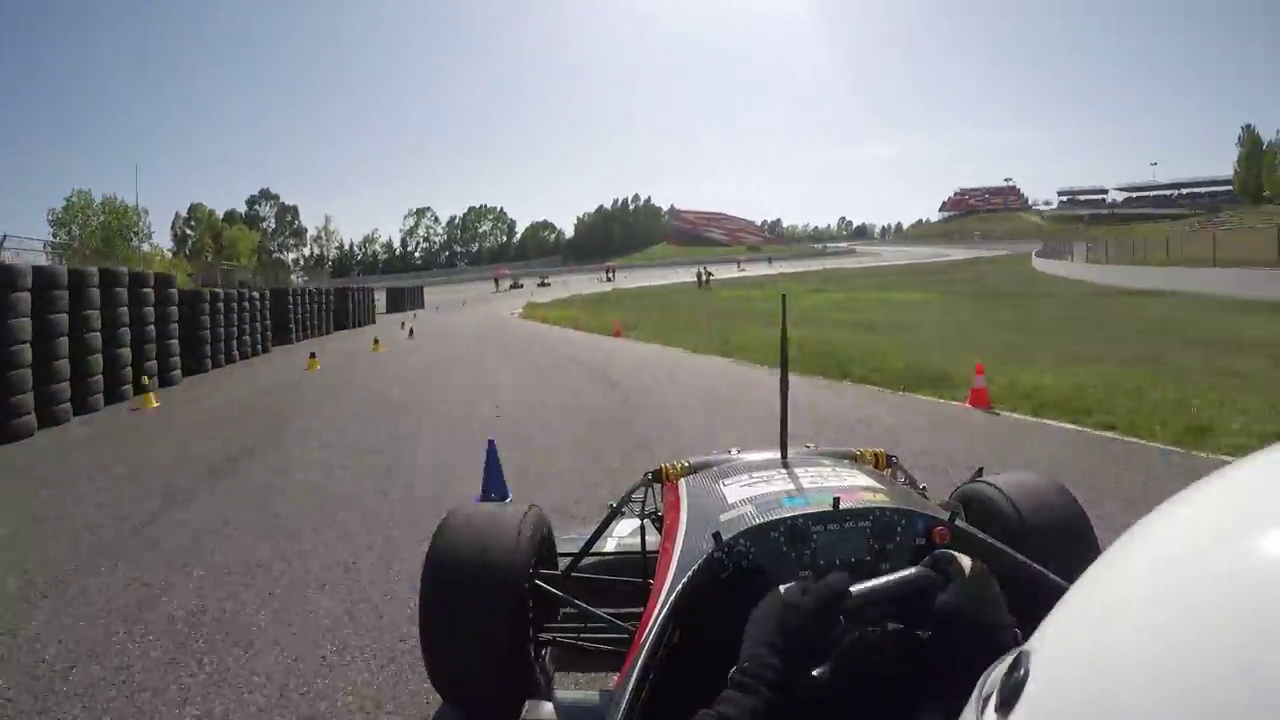Cone: (476, 438, 517, 503), (965, 362, 1000, 411), (135, 371, 159, 412)
